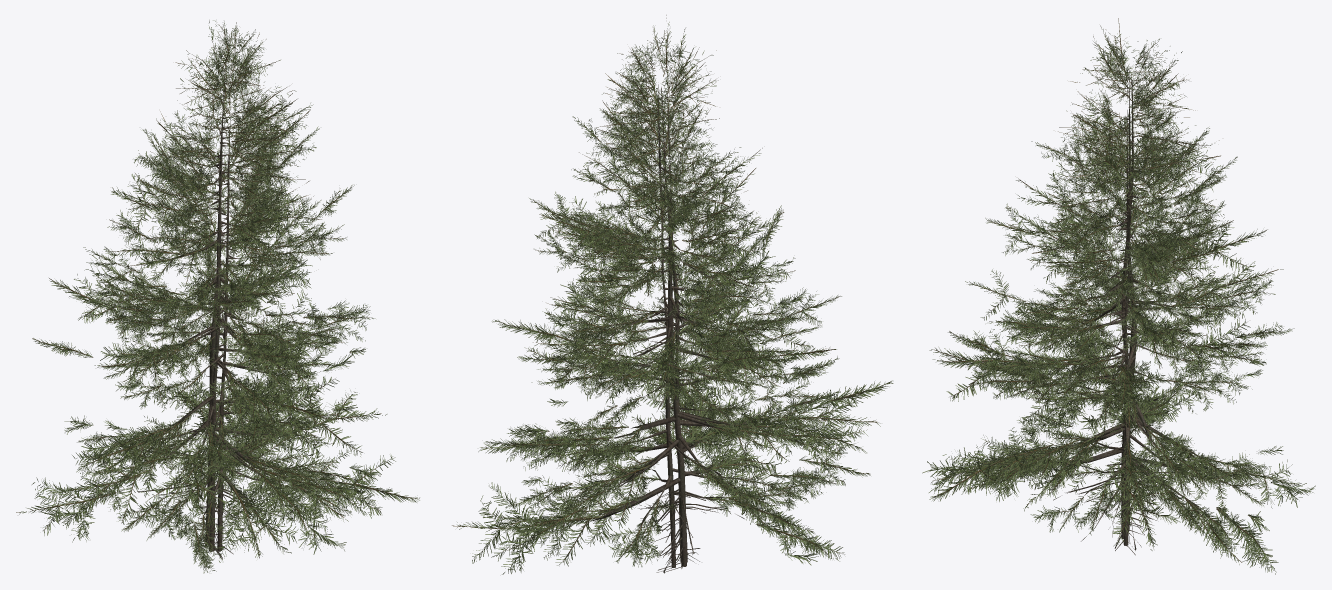
The model's file is fir_sapling_medium-near.glb.
3 renders of one model, left to right at view 1: azimuth 30°, elevation 25°; view 2: azimuth 150°, elevation 25°; view 3: azimuth 270°, elevation 25°, orthographic. The views are drawn at different scales.
Parts seen in each view (by area): view 1: fir_sapling_medium_c_LOD0, fir_sapling_medium_a_LOD0, fir_sapling_medium_b_LOD0; view 2: fir_sapling_medium_c_LOD0, fir_sapling_medium_a_LOD0, fir_sapling_medium_b_LOD0; view 3: fir_sapling_medium_c_LOD0, fir_sapling_medium_a_LOD0, fir_sapling_medium_b_LOD0.
Part boxes in pixels (x1,y1,x2,y2): fir_sapling_medium_c_LOD0: [16, 20, 419, 562]; fir_sapling_medium_a_LOD0: [32, 20, 379, 573]; fir_sapling_medium_b_LOD0: [67, 35, 374, 559]; fir_sapling_medium_c_LOD0: [452, 15, 893, 574]; fir_sapling_medium_a_LOD0: [496, 25, 870, 572]; fir_sapling_medium_b_LOD0: [510, 28, 840, 572]; fir_sapling_medium_c_LOD0: [922, 18, 1315, 574]; fir_sapling_medium_a_LOD0: [948, 36, 1294, 555]; fir_sapling_medium_b_LOD0: [972, 25, 1266, 552].
Bounding box in the file's own units: 0.7205 × 0.9972 × 0.6773.
Materials: 3 (3 with a texture image).
